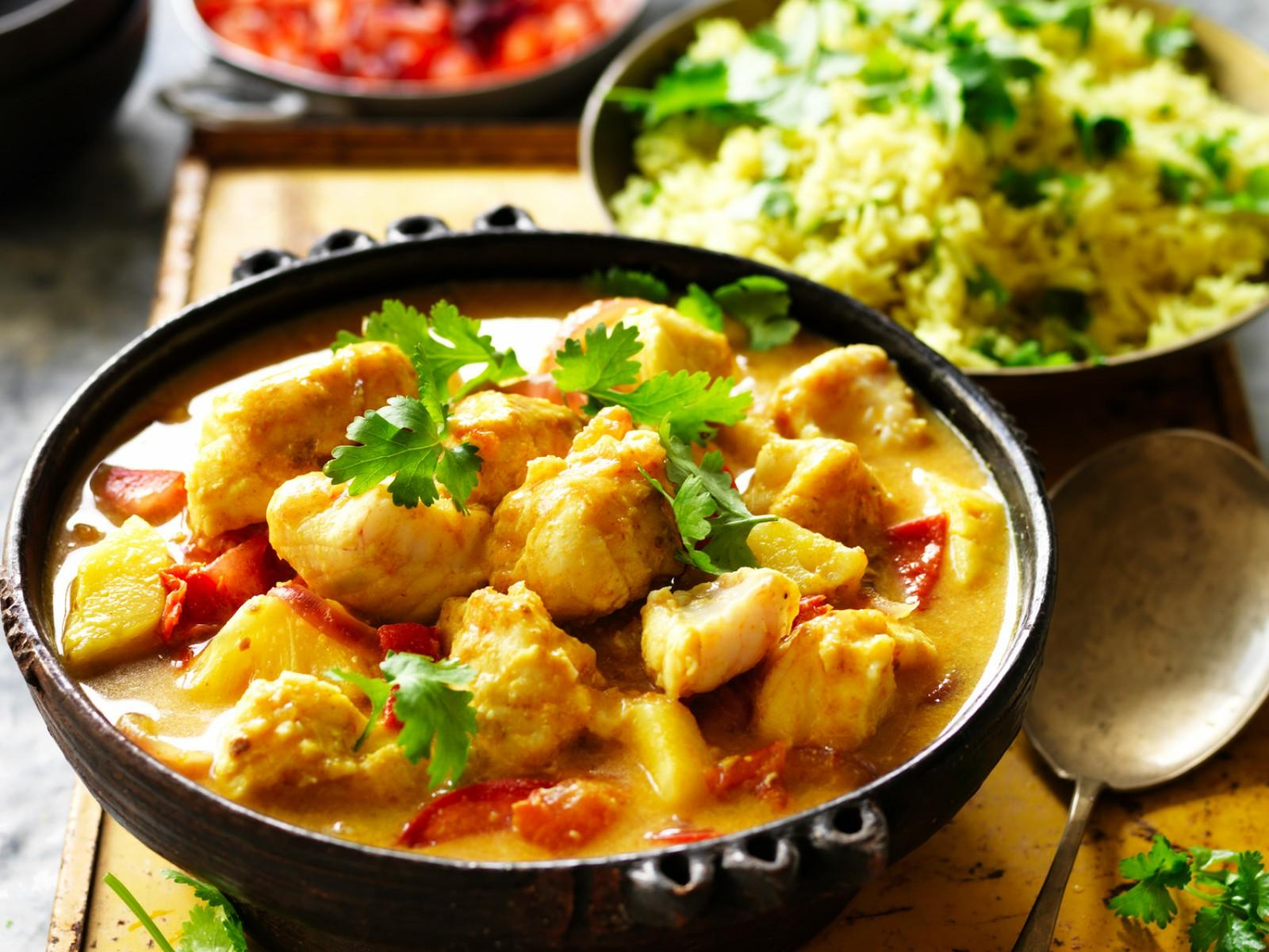FishCurry: (46, 273, 1013, 853)
WhiteRice: (606, 0, 1269, 368)
